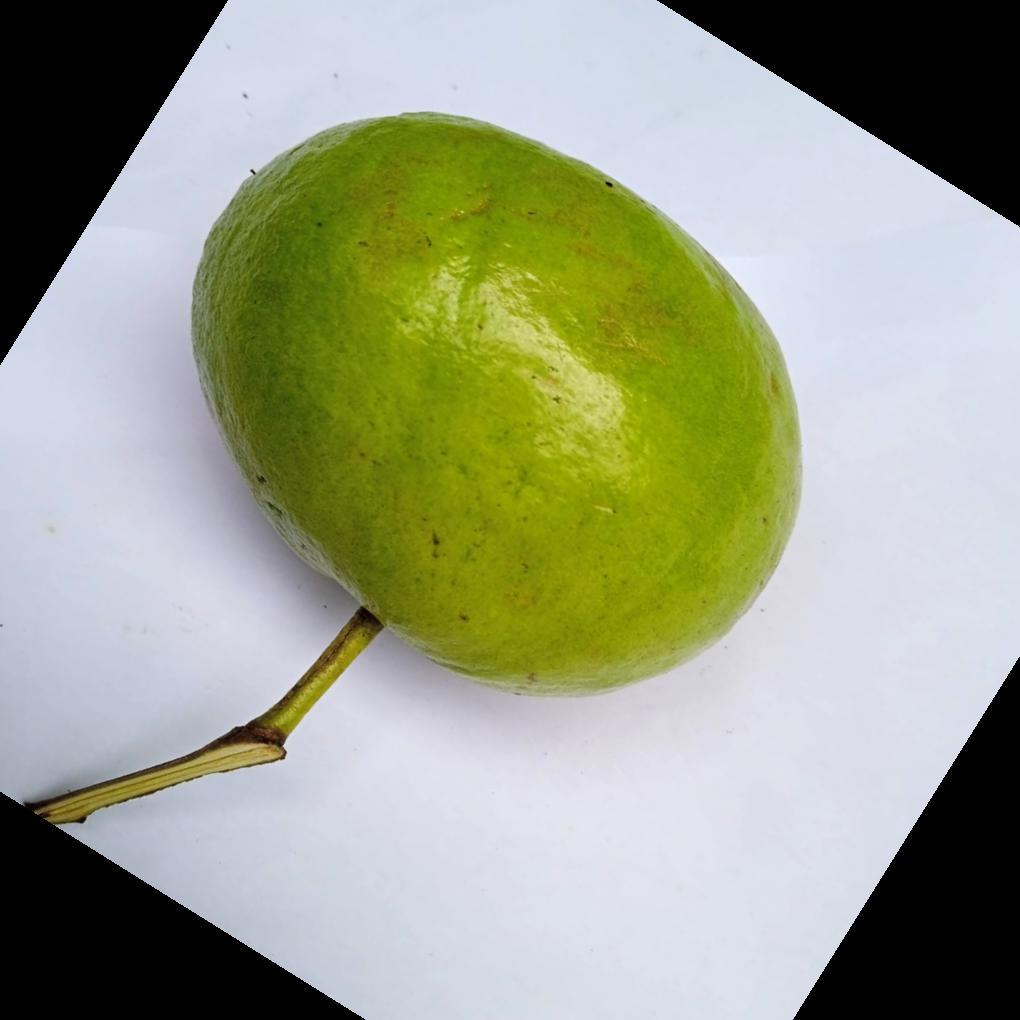FreshGuava: (188, 113, 803, 699)
